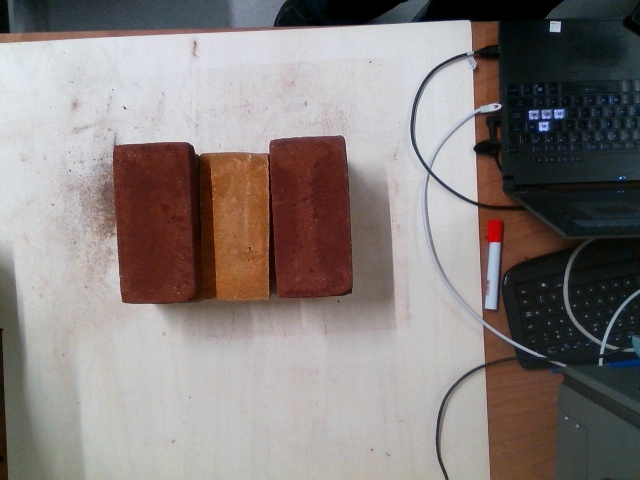brick: (112, 142, 191, 302), (272, 137, 351, 297), (198, 155, 269, 297)
